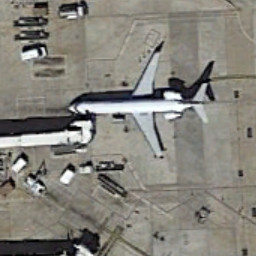Airplane: (57, 36, 225, 168)
